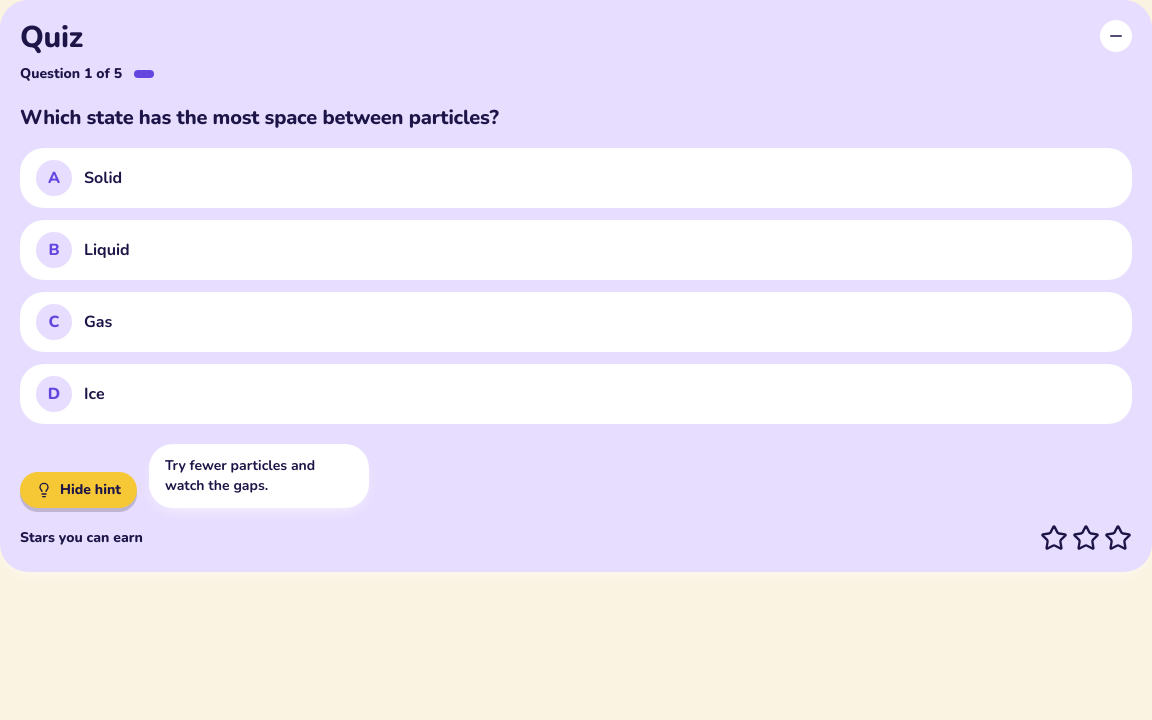
Test: hint toggle › shows the hint again when 'Show hint' is clicked
The width and height of the screenshot is (1152, 720).
Click the button "Hide hint" at (78, 490), box [20,472,137,508]
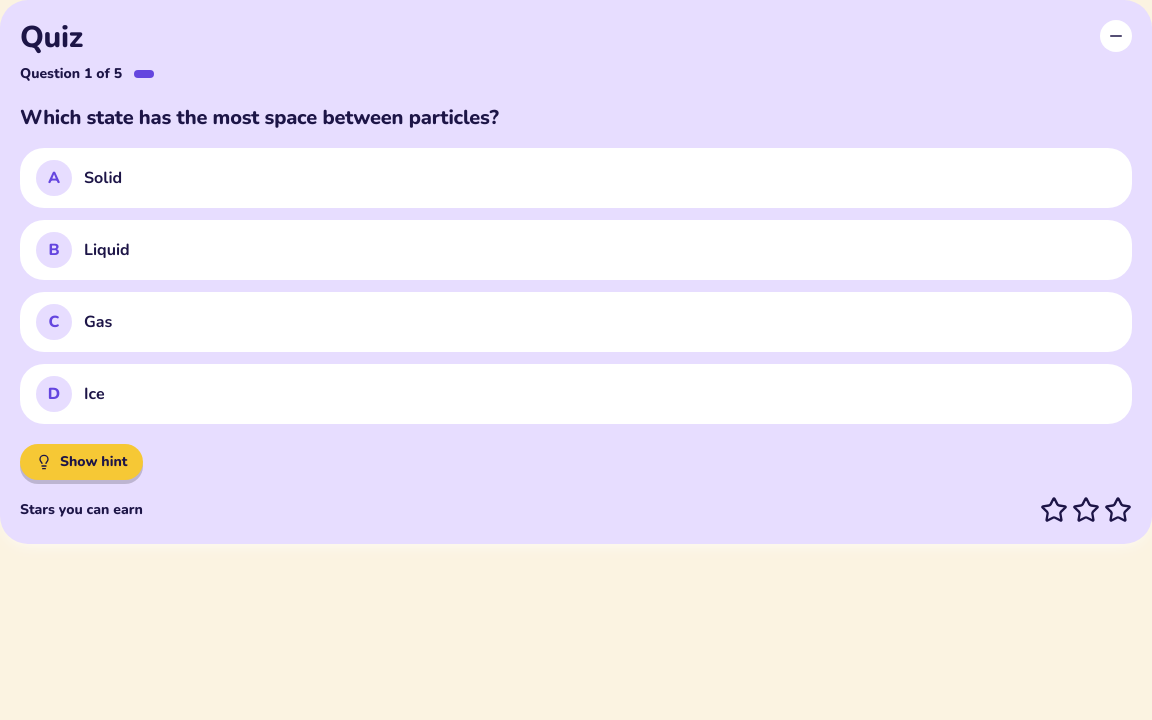
Click the button "Show hint" at (82, 462), box [20,444,144,480]
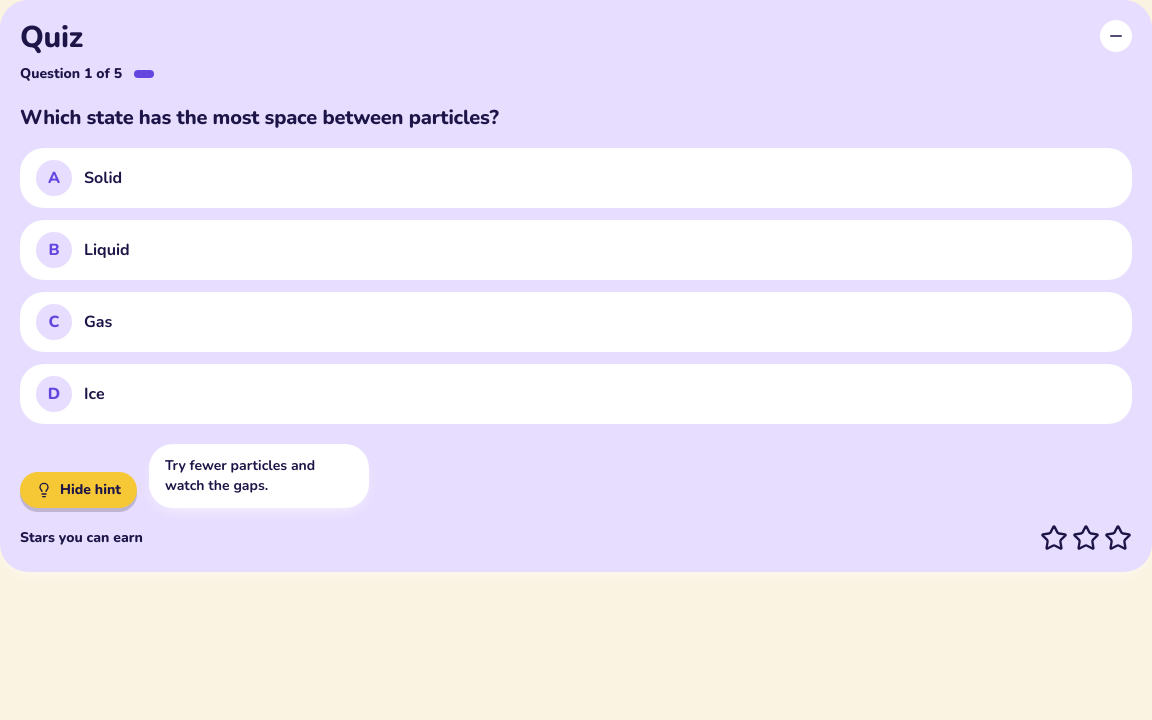
Result: the text "Try fewer particles and watch the gaps." is shown at [149,444,369,508]
